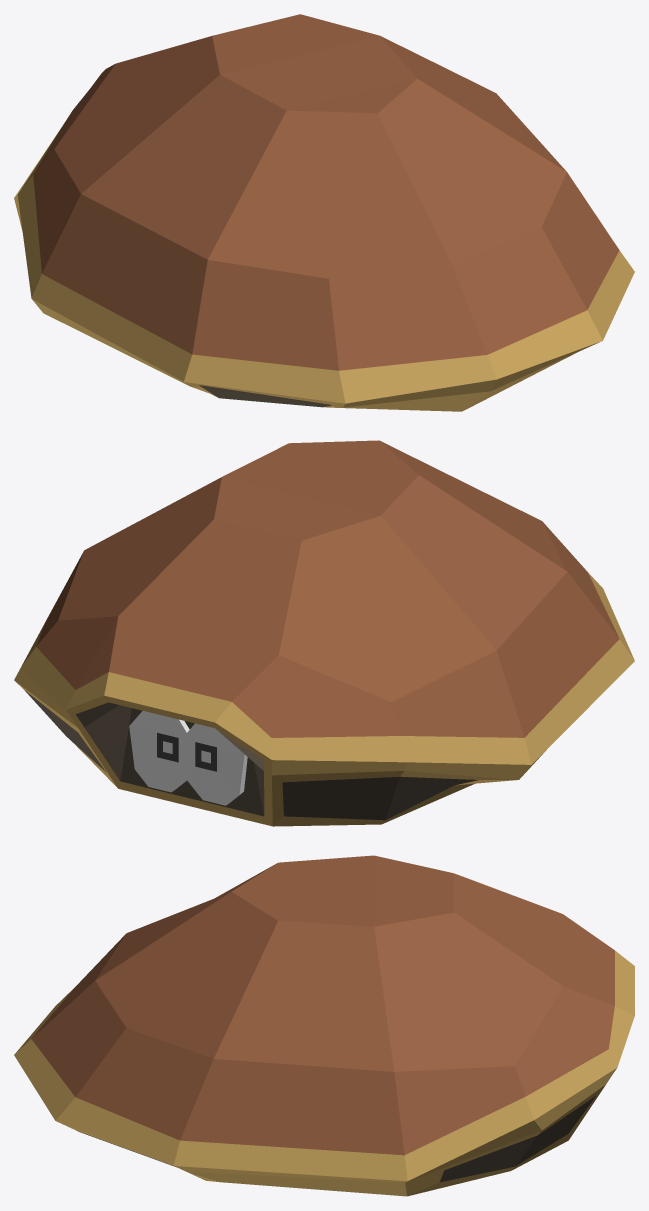
Rendered from Turtle_Shocked.fbx.
3 views of the same model, one above another, from view 1: azimuth 30°, elevation 25°; view 2: azimuth 150°, elevation 25°; view 3: azimuth 270°, elevation 25° (orthographic). The views are drawn at different scales.
Parts seen in each view (by area): view 1: Plane.001; view 2: Plane.001; view 3: Plane.001.
Boxes of the visible parts, left/top/right/bottom form: Plane.001: left=14, top=14, right=634, bottom=411; Plane.001: left=14, top=440, right=634, bottom=826; Plane.001: left=14, top=855, right=634, bottom=1196.
Bounding box in the file's own units: 6.35 × 2.9 × 7.48.
